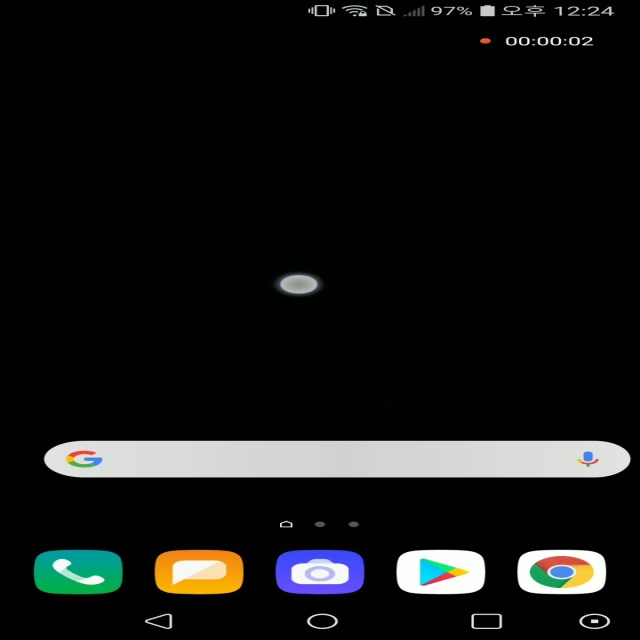Cursor: (277, 275, 321, 297)
